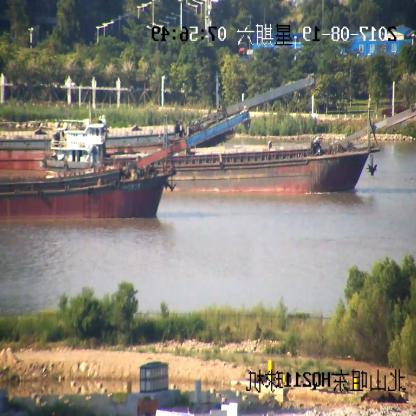Bulk Carrier: (0, 115, 249, 219), (0, 74, 312, 152), (176, 99, 415, 197)
